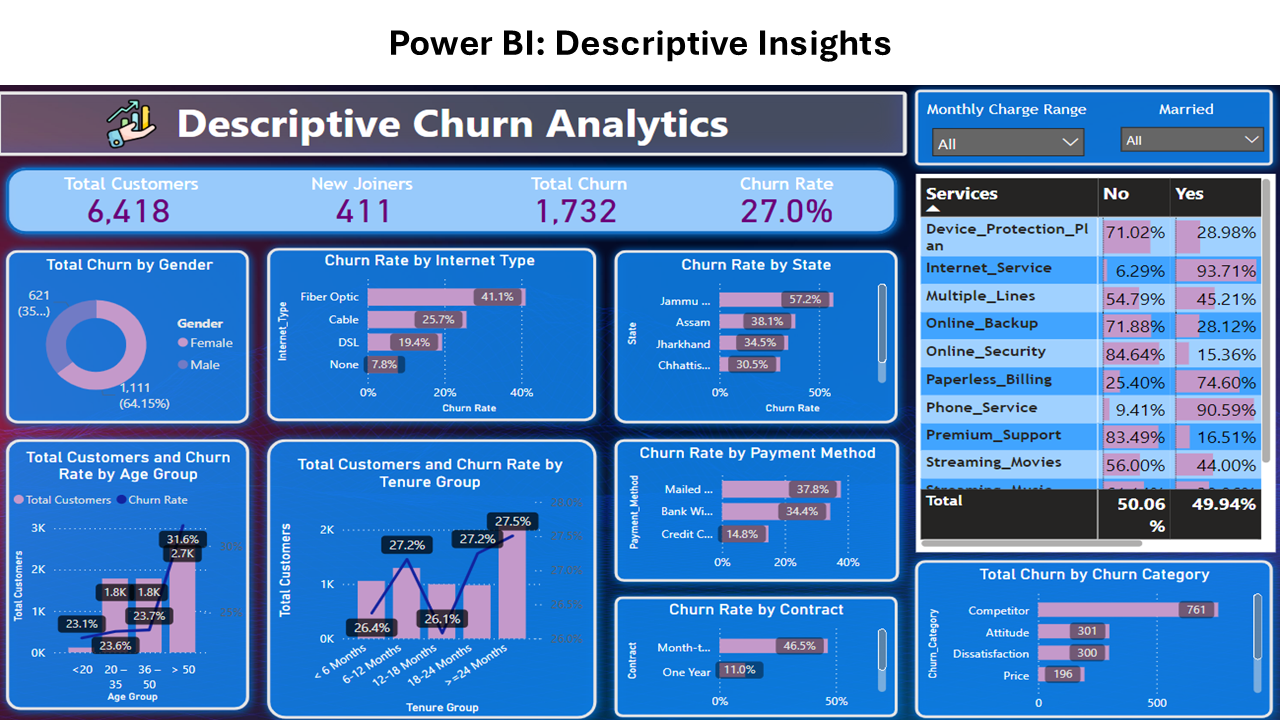

The page's visual inventory and layout, read from the dashboard file:
{"tool":"powerbi","page":{"name":"Descriptive","canvas":[1280,720],"ordinal":0},"visuals":[{"type":"pivotTable","fields":{"Rows":["prod_Services.Services"],"Columns":["prod_Services.Status"],"Values":["Sum(prod_Services.Customer Churn)"]},"box":[915.3,103.1,358.3,422.1],"z":0},{"type":"textbox","box":[0,11,906.8,72.4],"z":1000},{"type":"shape","box":[0,87.1,905.5,92],"z":2000},{"type":"card","fields":{"Values":["tbl_Measures.Total Customers"]},"box":[51.5,115.3,158.3,52.8],"z":3000},{"type":"card","fields":{"Values":["tbl_Measures.New Joiners"]},"box":[260.1,115.3,212.3,52.8],"z":4000},{"type":"card","fields":{"Values":["tbl_Measures.Churn Rate"]},"box":[679.8,115.3,213.5,52.8],"z":5000},{"type":"card","fields":{"Values":["tbl_Measures.Total Churn"]},"box":[472.4,115.3,207.4,52.8],"z":6000},{"type":"textbox","box":[0,98.2,906.8,31.9],"z":7000},{"type":"shape","box":[0,178.6,260,211.4],"z":8000},{"type":"donutChart","fields":{"Category":["prod_Churn.Gender"],"Y":["tbl_Measures.Total Churn"]},"box":[13.5,193.9,236.8,181.6],"z":9000},{"type":"shape","box":[260,177.1,345.7,211.4],"z":10000},{"type":"shape","box":[0,390.2,260.1,320.2],"z":11000},{"type":"shape","box":[260.1,390.2,346,330.1],"z":12000},{"type":"shape","box":[605.7,178.6,300,211.4],"z":13000},{"type":"shape","box":[605.7,390,301.4,177.1],"z":14000},{"type":"shape","box":[605.7,565.7,300,152.9],"z":15000},{"type":"shape","box":[905.7,525.7,374.3,194.3],"z":16000},{"type":"clusteredBarChart","title":"Churn Rate by Internet Type","fields":{"Category":["prod_Churn.Internet_Type"],"Y":["tbl_Measures.Churn Rate"]},"box":[273.6,189,315.3,186.5],"z":17000},{"type":"clusteredBarChart","fields":{"Category":["prod_Churn.State"],"Y":["tbl_Measures.Churn Rate"]},"box":[622.1,193.9,268.7,181.6],"z":18000},{"type":"lineStackedColumnComboChart","fields":{"Category":["mapping_AgeGrp.Age Group"],"Y":["tbl_Measures.Total Customers"],"Y2":["tbl_Measures.Churn Rate"]},"box":[11,408.6,239.3,289.6],"z":19000},{"type":"lineStackedColumnComboChart","fields":{"Category":["mapping_TenureGrp.Tenure Group"],"Y":["tbl_Measures.Total Customers"],"Y2":["tbl_Measures.Churn Rate"]},"box":[273.6,417.2,315.3,293.3],"z":20000},{"type":"clusteredBarChart","title":"Total Churn by Churn Category","fields":{"Category":["prod_Churn.Churn_Category"],"Y":["tbl_Measures.Total Churn"]},"box":[921.5,539.9,343.6,171.8],"z":21000},{"type":"clusteredBarChart","title":"Churn Rate by Payment Method","fields":{"Category":["prod_Churn.Payment_Method"],"Y":["tbl_Measures.Churn Rate"]},"box":[624.5,403.7,266.3,150.9],"z":22000},{"type":"clusteredBarChart","fields":{"Y":["tbl_Measures.Churn Rate"],"Category":["prod_Churn.Contract"]},"box":[622.1,579.1,268.7,131.3],"z":23000},{"type":"shape","box":[905.7,0,374.3,102.9],"z":24000},{"type":"slicer","fields":{"Values":["prod_Services.Monthly Charge Status"]},"box":[921.5,41.7,171.8,47.9],"z":25000},{"type":"slicer","fields":{"Values":["prod_Services.Married"]},"box":[1109.2,40.5,163.2,52.8],"z":26000},{"type":"textbox","box":[921.5,16,343.6,35.6],"z":27000},{"type":"image","box":[101.8,14.7,63.8,65],"z":28000}]}

Visuals, with their boxes in screenshot pixels (x1, y1, x2, y2), scaled from the page's 1280x720 canvas onto the 1280x720 screenshot:
pivotTable - prod_Services.Services x prod_Services.Status: box=[915, 103, 1274, 525]
textbox: box=[0, 11, 907, 83]
shape: box=[0, 87, 906, 179]
card - tbl_Measures.Total Customers: box=[52, 115, 210, 168]
card - tbl_Measures.New Joiners: box=[260, 115, 472, 168]
card - tbl_Measures.Churn Rate: box=[680, 115, 893, 168]
card - tbl_Measures.Total Churn: box=[472, 115, 680, 168]
textbox: box=[0, 98, 907, 130]
shape: box=[0, 179, 260, 390]
donutChart - prod_Churn.Gender x tbl_Measures.Total Churn: box=[14, 194, 250, 376]
shape: box=[260, 177, 606, 388]
shape: box=[0, 390, 260, 710]
shape: box=[260, 390, 606, 719]
shape: box=[606, 179, 906, 390]
shape: box=[606, 390, 907, 567]
shape: box=[606, 566, 906, 719]
shape: box=[906, 526, 1279, 719]
"Churn Rate by Internet Type" clusteredBarChart: box=[274, 189, 589, 376]
clusteredBarChart - prod_Churn.State x tbl_Measures.Churn Rate: box=[622, 194, 891, 376]
lineStackedColumnComboChart - mapping_AgeGrp.Age Group x tbl_Measures.Total Customers: box=[11, 409, 250, 698]
lineStackedColumnComboChart - mapping_TenureGrp.Tenure Group x tbl_Measures.Total Customers: box=[274, 417, 589, 710]
"Total Churn by Churn Category" clusteredBarChart: box=[922, 540, 1265, 712]
"Churn Rate by Payment Method" clusteredBarChart: box=[624, 404, 891, 555]
clusteredBarChart - tbl_Measures.Churn Rate x prod_Churn.Contract: box=[622, 579, 891, 710]
shape: box=[906, 0, 1279, 103]
slicer - prod_Services.Monthly Charge Status: box=[922, 42, 1093, 90]
slicer - prod_Services.Married: box=[1109, 40, 1272, 93]
textbox: box=[922, 16, 1265, 52]
image: box=[102, 15, 166, 80]
